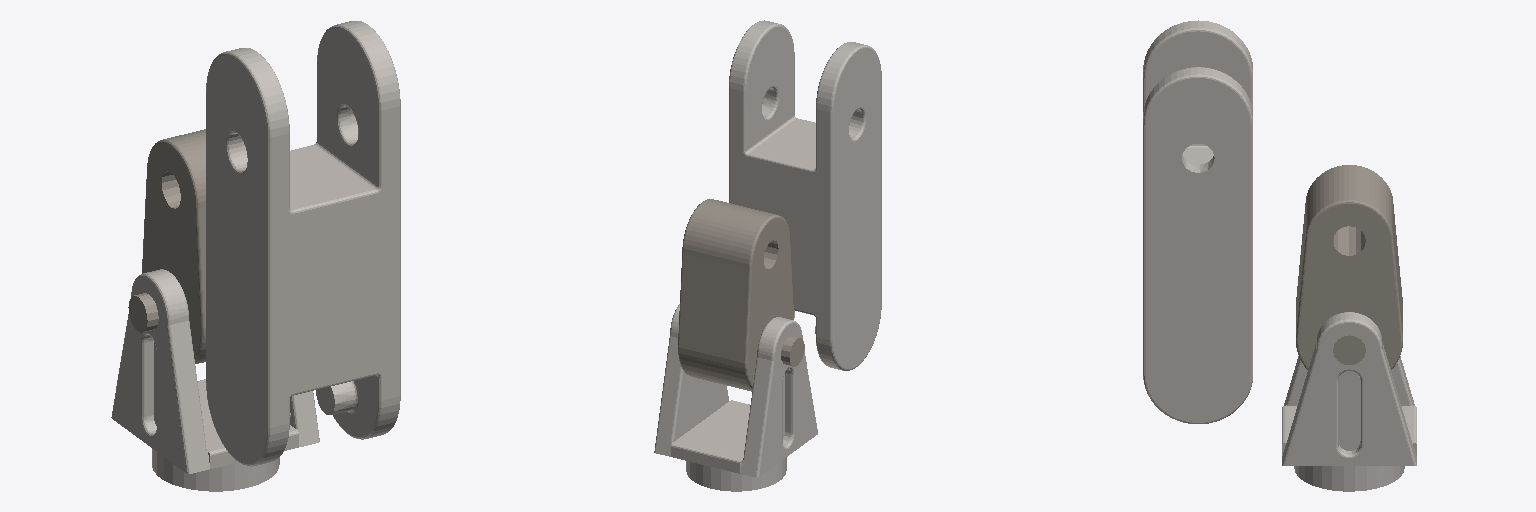
robot.urdf — testarm_urdf_2:
<?xml version="1.0" encoding="utf-8"?>
<!-- This URDF was automatically created by SolidWorks to URDF Exporter! Originally created by [author] ([email redacted]) 
     Commit Version: 1.6.0-4-g7f85cfe  Build Version: 1.6.7995.38578
     For more information, please see http://wiki.ros.org/sw_urdf_exporter -->
<robot
  name="testarm_urdf_2">
  <link
    name="base_link">
    <inertial>
      <origin
        xyz="2.7756E-17 1.1102E-16 0.10722"
        rpy="0 0 0" />
      <mass
        value="667.25" />
      <inertia
        ixx="21.308"
        ixy="3.2909E-08"
        ixz="4.7141E-16"
        iyy="21.308"
        iyz="-5.8473E-16"
        izz="36.305" />
    </inertial>
    <visual>
      <origin
        xyz="0 0 0"
        rpy="0 0 0" />
      <geometry>
        <mesh
          filename="package://testarm_urdf_2/meshes/base_link.STL" />
      </geometry>
      <material
        name="">
        <color
          rgba="0.61961 0.40784 0.2 1" />
      </material>
    </visual>
    <collision>
      <origin
        xyz="0 0 0"
        rpy="0 0 0" />
      <geometry>
        <mesh
          filename="package://testarm_urdf_2/meshes/base_link.STL" />
      </geometry>
    </collision>
  </link>
  <link
    name="l1">
    <inertial>
      <origin
        xyz="2.06E-05 -0.22592 0.1524"
        rpy="0 0 0" />
      <mass
        value="103.33" />
      <inertia
        ixx="2.3418"
        ixy="0.00010868"
        ixz="6.0067E-07"
        iyy="1.6131"
        iyz="1.2951E-06"
        izz="1.8272" />
    </inertial>
    <visual>
      <origin
        xyz="0 0 0"
        rpy="0 0 0" />
      <geometry>
        <mesh
          filename="package://testarm_urdf_2/meshes/l1.STL" />
      </geometry>
      <material
        name="">
        <color
          rgba="0.77647 0.75686 0.73725 1" />
      </material>
    </visual>
    <collision>
      <origin
        xyz="0 0 0"
        rpy="0 0 0" />
      <geometry>
        <mesh
          filename="package://testarm_urdf_2/meshes/l1.STL" />
      </geometry>
    </collision>
  </link>
  <joint
    name="j1"
    type="revolute">
    <origin
      xyz="0 0.1524 0.59921"
      rpy="1.5708 0 1.5708" />
    <parent
      link="base_link" />
    <child
      link="l1" />
    <axis
      xyz="0 1 0" />
    <limit
      lower="0"
      upper="3.142"
      effort="300"
      velocity="3" />
  </joint>
  <link
    name="l2">
    <inertial>
      <origin
        xyz="4.3999E-12 -0.1558 0.10012"
        rpy="0 0 0" />
      <mass
        value="141.23" />
      <inertia
        ixx="2.7406"
        ixy="-3.9887E-10"
        ixz="9.097E-10"
        iyy="1.1047"
        iyz="-0.011982"
        izz="2.7555" />
    </inertial>
    <visual>
      <origin
        xyz="0 0 0"
        rpy="0 0 0" />
      <geometry>
        <mesh
          filename="package://testarm_urdf_2/meshes/l2.STL" />
      </geometry>
      <material
        name="">
        <color
          rgba="0.64706 0.61961 0.58824 1" />
      </material>
    </visual>
    <collision>
      <origin
        xyz="0 0 0"
        rpy="0 0 0" />
      <geometry>
        <mesh
          filename="package://testarm_urdf_2/meshes/l2.STL" />
      </geometry>
    </collision>
  </link>
  <joint
    name="j2"
    type="revolute">
    <origin
      xyz="0 0.254 0.0508"
      rpy="0 0 0" />
    <parent
      link="l1" />
    <child
      link="l2" />
    <axis
      xyz="0 0 -1" />
    <limit
      lower="-1.57"
      upper="1.57"
      effort="200"
      velocity="3" />
  </joint>
  <link
    name="l3">
    <inertial>
      <origin
        xyz="0 -0.035287 0.15241"
        rpy="0 0 0" />
      <mass
        value="339.62" />
      <inertia
        ixx="16.141"
        ixy="8.7697E-16"
        ixz="-8.3045E-17"
        iyy="5.1137"
        iyz="-0.00069979"
        izz="14.561" />
    </inertial>
    <visual>
      <origin
        xyz="0 0 0"
        rpy="0 0 0" />
      <geometry>
        <mesh
          filename="package://testarm_urdf_2/meshes/l3.STL" />
      </geometry>
      <material
        name="">
        <color
          rgba="0.77647 0.75686 0.73725 1" />
      </material>
    </visual>
    <collision>
      <origin
        xyz="0 0 0"
        rpy="0 0 0" />
      <geometry>
        <mesh
          filename="package://testarm_urdf_2/meshes/l3.STL" />
      </geometry>
    </collision>
  </link>
  <joint
    name="j3"
    type="revolute">
    <origin
      xyz="-0.34822 0 -0.0508"
      rpy="0 0 0" />
    <parent
      link="l2" />
    <child
      link="l3" />
    <axis
      xyz="0 0 1" />
    <limit
      lower="0"
      upper="3.142"
      effort="200"
      velocity="3" />
  </joint>
</robot>

--- Facts derived from the render (not from the file) ---
The picture shows the robot from 3 angles, left to right: view 1: azimuth 30°, elevation 25°; view 2: azimuth 150°, elevation 25°; view 3: azimuth 270°, elevation 25°; orthographic projection.
Robot: testarm_urdf_2 — 4 links, 3 joints (3 revolute); root link base_link; default pose: every joint at zero.
Visible links, largest first — view 1: l3, l1, l2; view 2: l3, l2, l1; view 3: l3, l1, l2.
Link boxes in pixels (<box>): l3: <box>206,21,400,466</box>; l1: <box>111,269,319,491</box>; l2: <box>128,129,205,363</box>; l3: <box>729,20,881,370</box>; l2: <box>678,199,804,391</box>; l1: <box>654,304,817,491</box>; l3: <box>1143,20,1252,423</box>; l1: <box>1282,312,1416,491</box>; l2: <box>1296,165,1402,369</box>.
Size in the robot's own frame: 0.3302 by 0.6305 by 1.07 metres.
3 mesh visuals loaded from 4 distinct referenced files (3 binary STL); not drawn: 1 (reference not matched to a file when rendering).